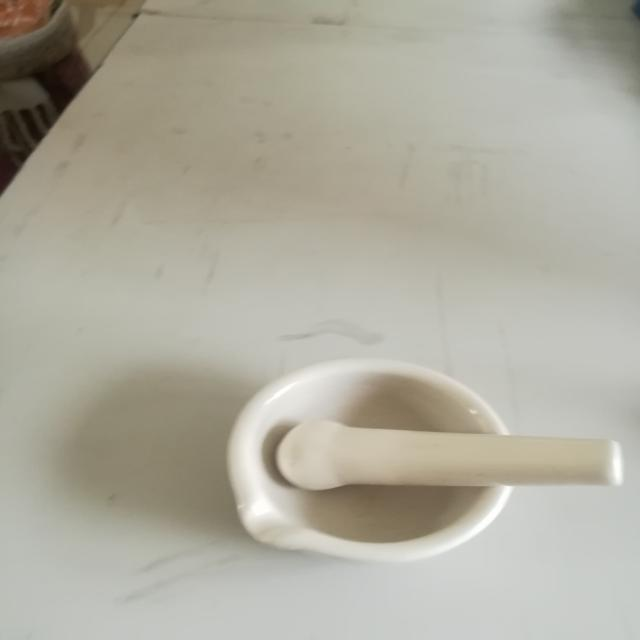Porcelain_Mortar Pestle: (174, 330, 640, 596)
